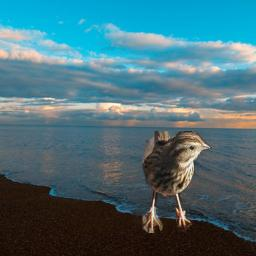Sparrow: (142, 131, 212, 233)
